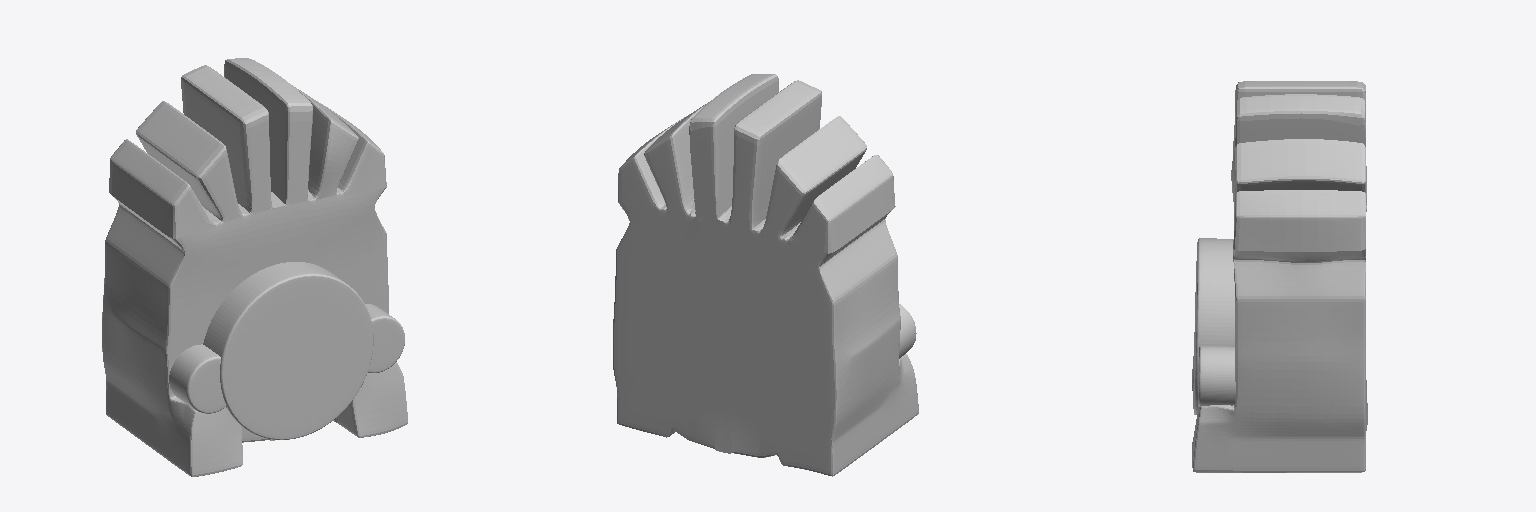
The model's file is Objeto_Maya.obj.
The picture shows the model from 3 angles: view 1: azimuth 30°, elevation 25°; view 2: azimuth 150°, elevation 25°; view 3: azimuth 270°, elevation 25°; orthographic projection.
Visible parts, largest first — view 1: Objeto_Maya, Adorno(Objeto_Maya); view 2: Objeto_Maya, Adorno(Objeto_Maya); view 3: Objeto_Maya, Adorno(Objeto_Maya).
Part boxes in pixels (bbox=[...]): Objeto_Maya: bbox=[102, 58, 407, 476]; Adorno(Objeto_Maya): bbox=[169, 262, 404, 439]; Objeto_Maya: bbox=[613, 74, 918, 476]; Adorno(Objeto_Maya): bbox=[899, 304, 916, 358]; Objeto_Maya: bbox=[1192, 81, 1367, 472]; Adorno(Objeto_Maya): bbox=[1193, 238, 1235, 414].
Size of the model in its own units: 1.88 by 2.62 by 1.25.